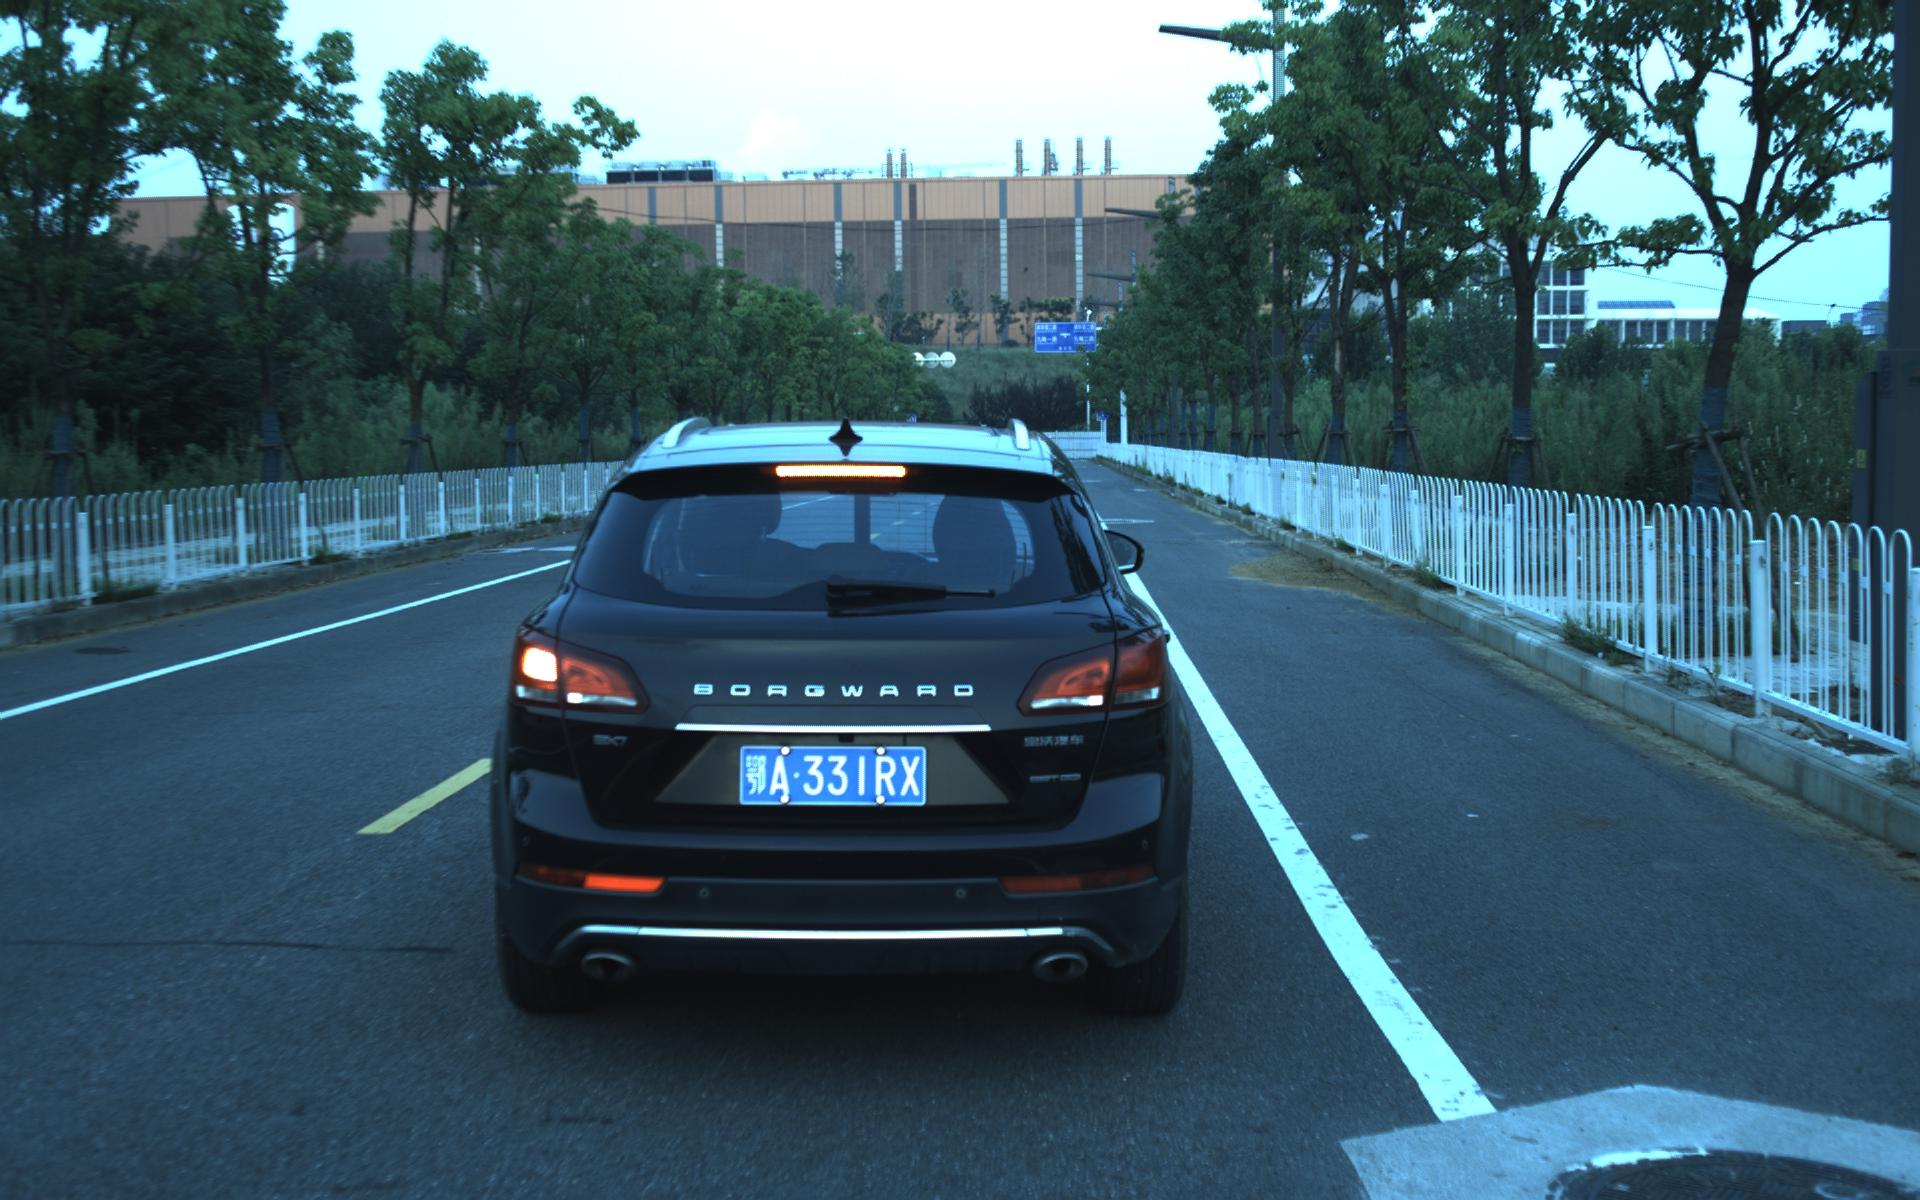Car: (480, 383, 1193, 1024)
